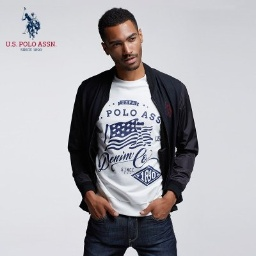face: (97, 7, 145, 73)
